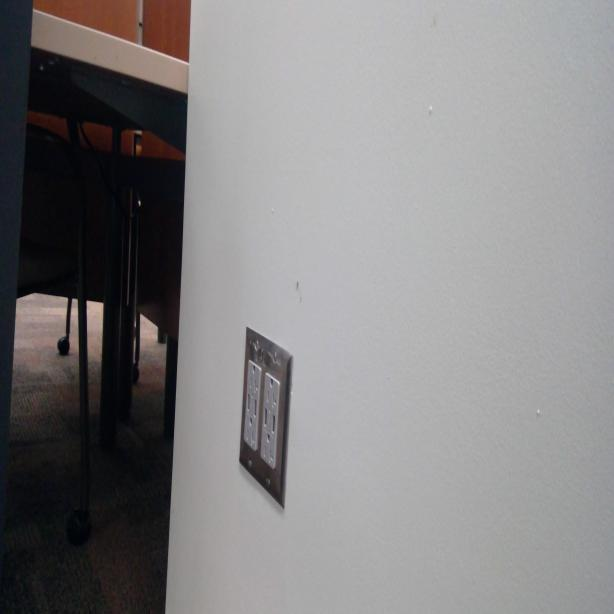typeb: (264, 371, 279, 412), (243, 413, 258, 450), (261, 428, 275, 467), (247, 360, 260, 395)
